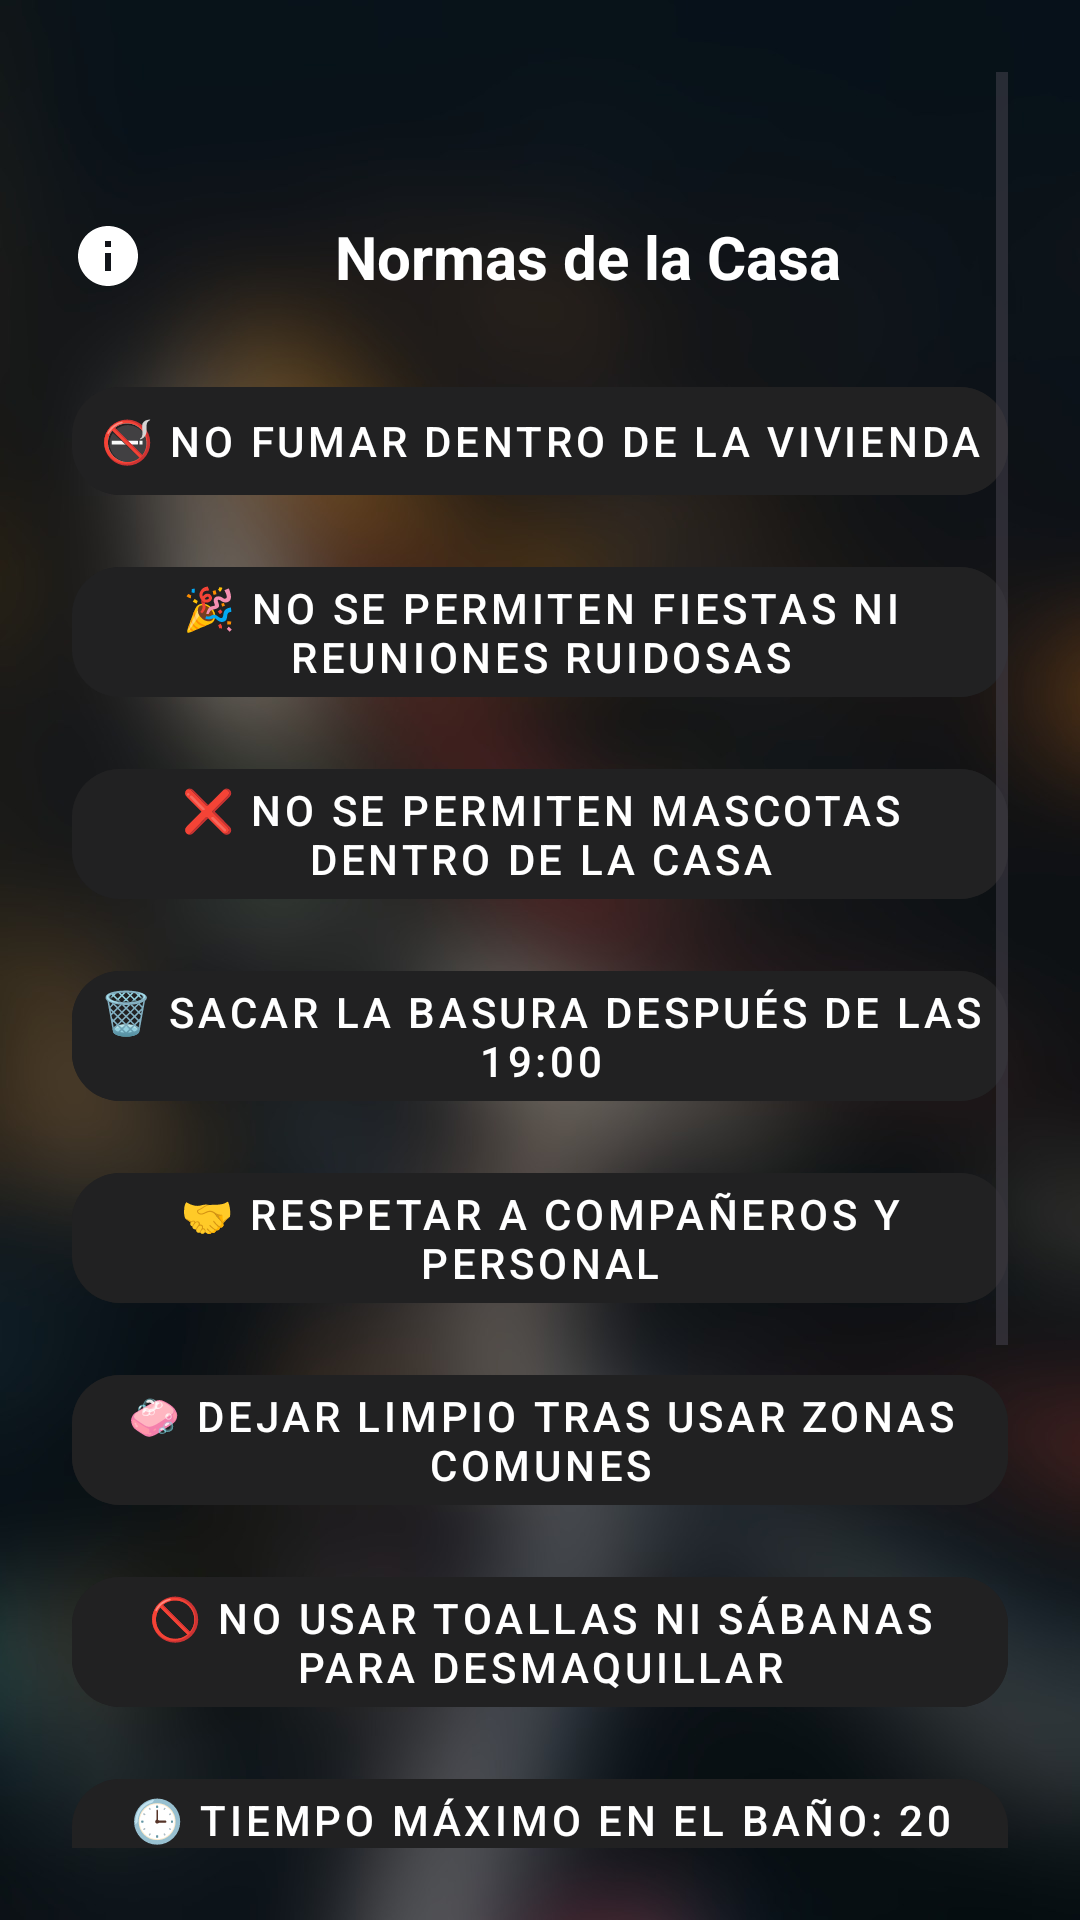

Screen size 1080w x 1920h. Icon name, then its center in pixels as [x,y]:
info: [108,256]
